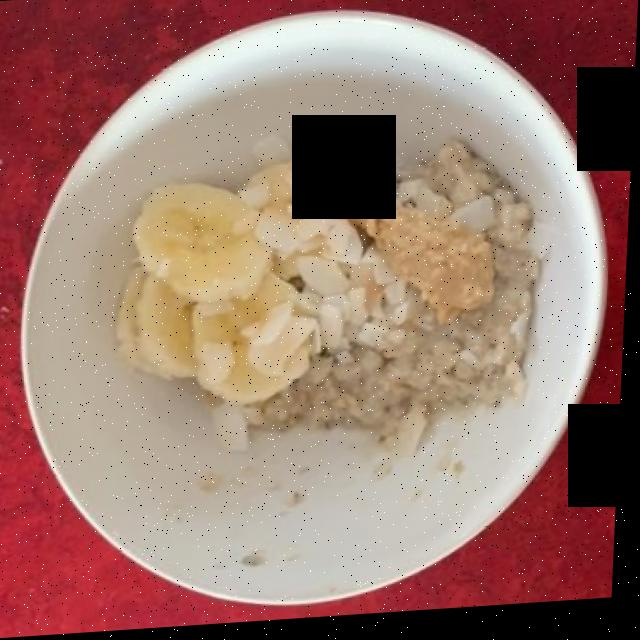banana: (122, 164, 331, 404)
peanut-butter: (345, 179, 500, 326)
porridge-prepared-with-partially-skimmed-milk: (253, 133, 537, 440)
